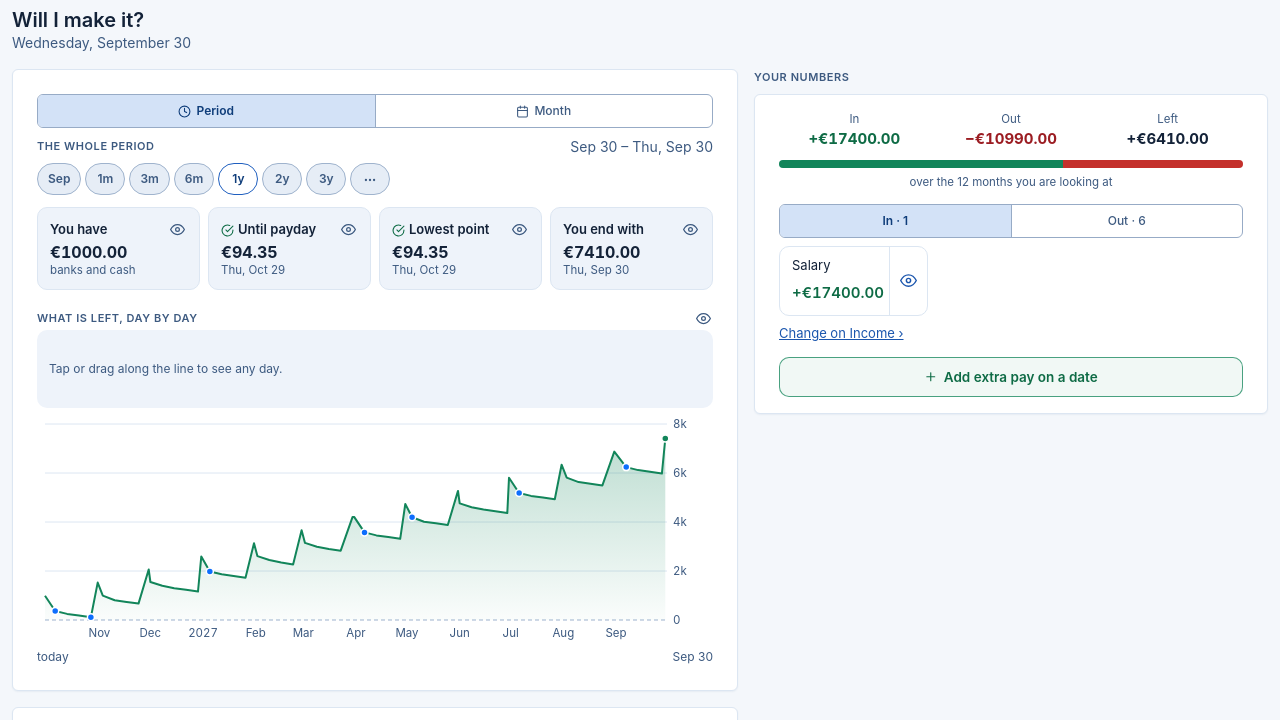
the pay-day sheet › gives the same answer on a year's view, though that plan is sampled by the week
Click the button named "Until payday: " at {"x": 348, "y": 230}, box [332,214,364,246]
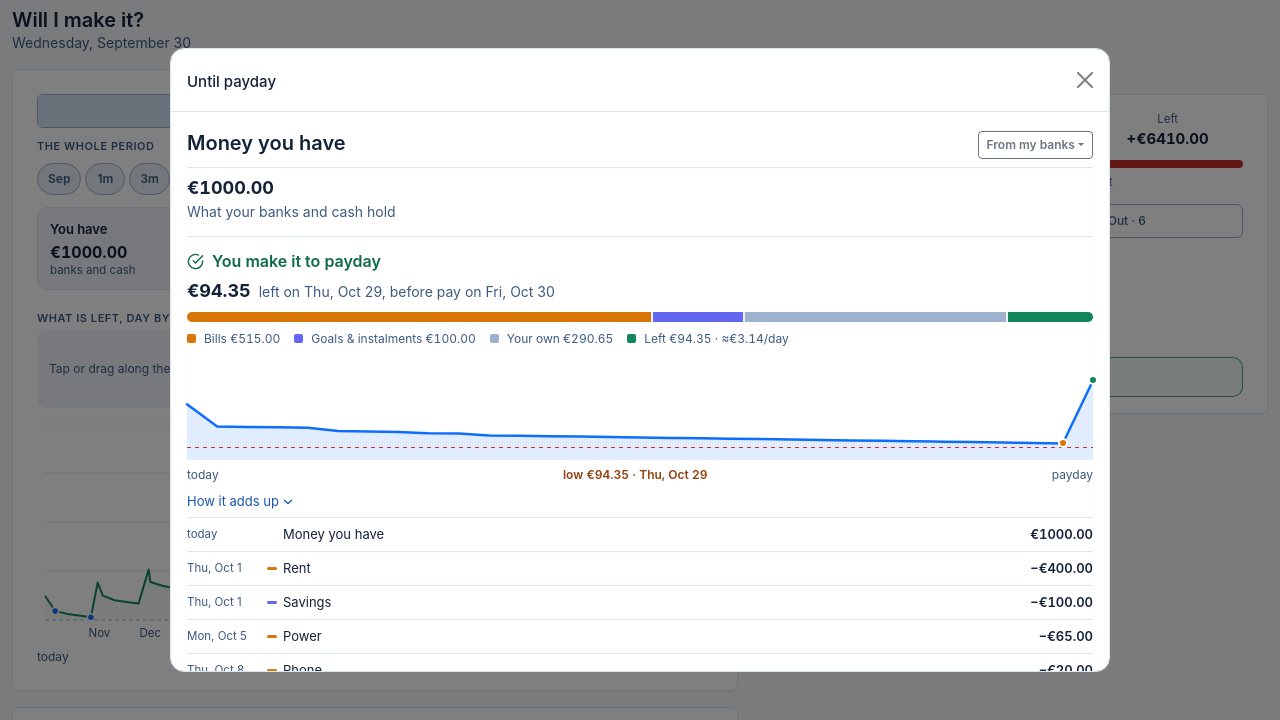
Result: the list item "Left €94.35 · ≈€3.14/day" is shown at [627,330,789,348]
